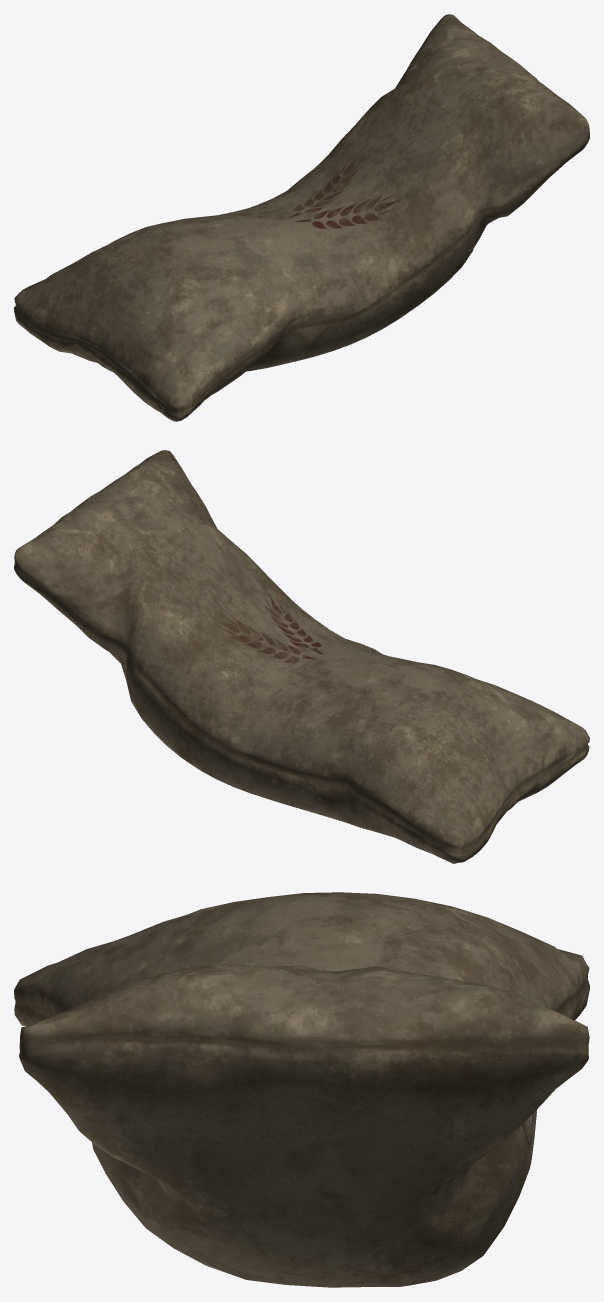
Rendered from PRP_SeedPile.glb.
3 renders of one model, top to bottom at view 1: azimuth 30°, elevation 25°; view 2: azimuth 150°, elevation 25°; view 3: azimuth 270°, elevation 25°, orthographic. The views are drawn at different scales.
Parts seen in each view (by area): view 1: Object_4; view 2: Object_4; view 3: Object_4.
Boxes of the visible parts, x1,y1,x2,y2 form: Object_4: [14, 14, 589, 421]; Object_4: [14, 450, 589, 863]; Object_4: [14, 892, 589, 1287].
Bounding box in the file's own units: 1.05 × 0.5317 × 0.6083.
1 material, 1 textured.
